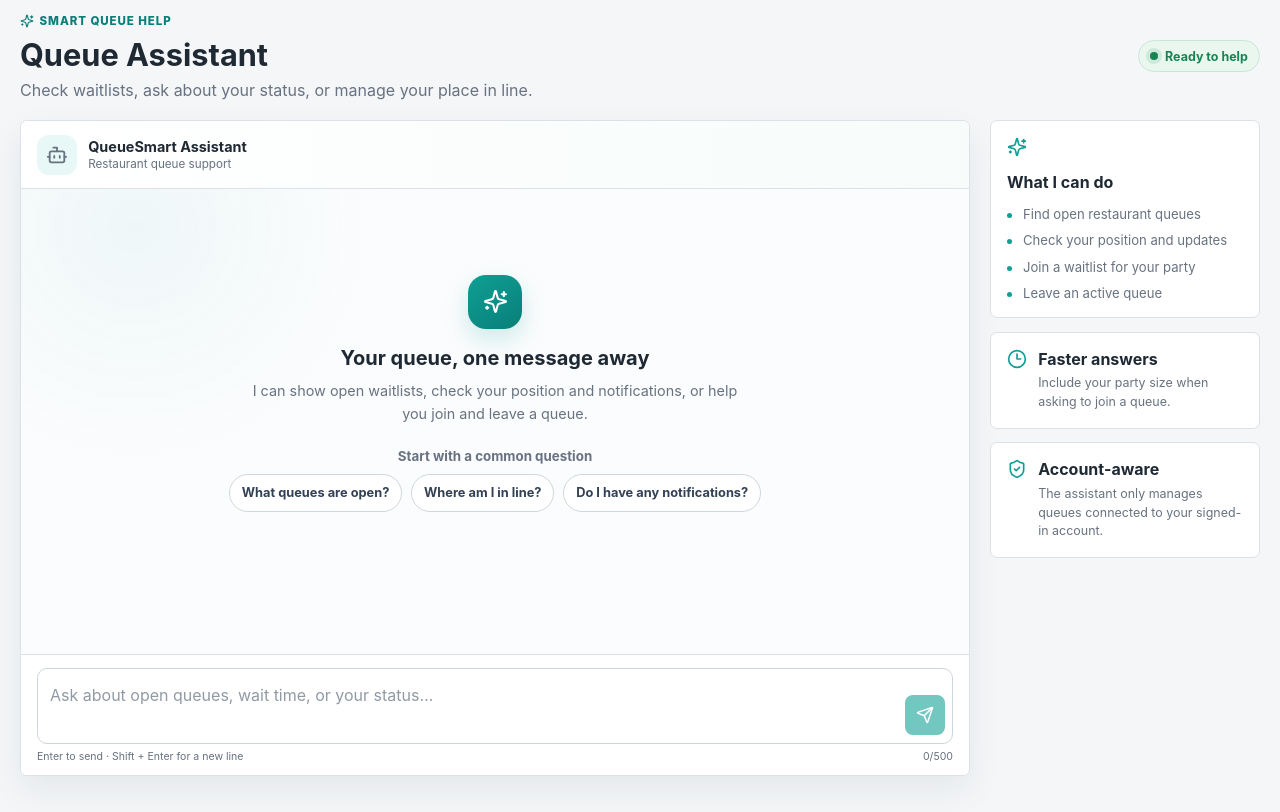
Test case: Queue Assistant › sends plain text with the signed-in token and displays the reply
Expected: the heading "Your queue, one message away" is shown, [340,346,649,370]
Type "What queues are open?" into the text box named "Message Queue Assistant".
click(472, 706); type("What queues are open?")  # box [50,676,894,736]
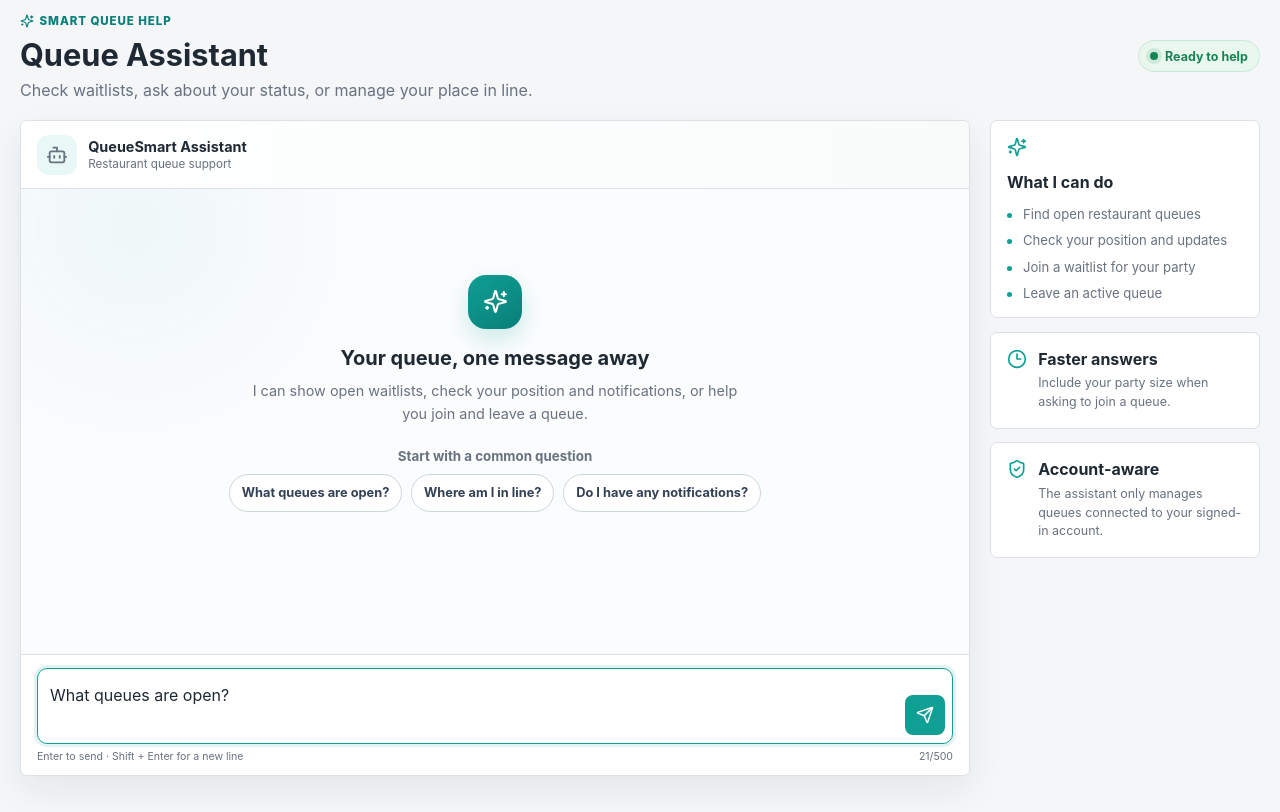
Click the button named "Send message".
click(925, 716)  # box [905,696,945,736]
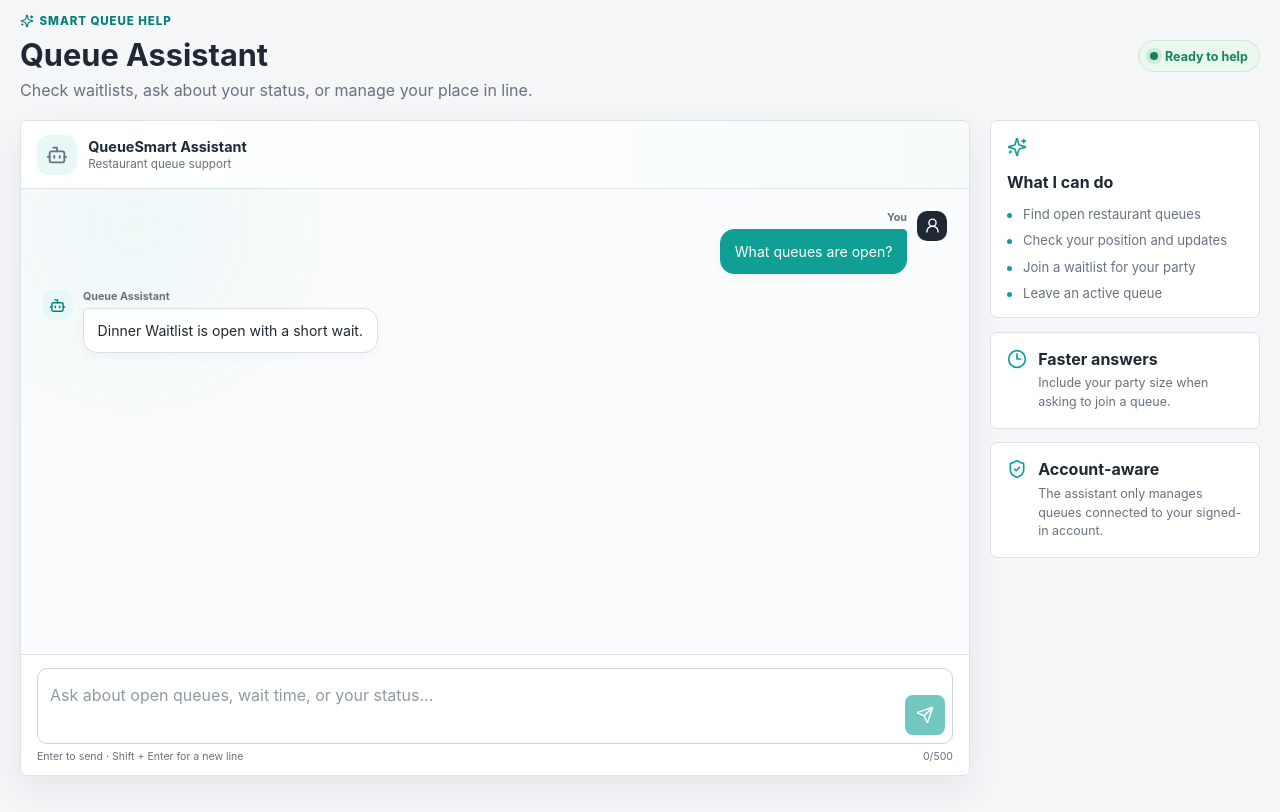
Expected: the text "What queues are open?" is shown, [735,241,892,262]
Expected: the text "Dinner Waitlist is open with a short wait." is shown, [98,320,363,341]
